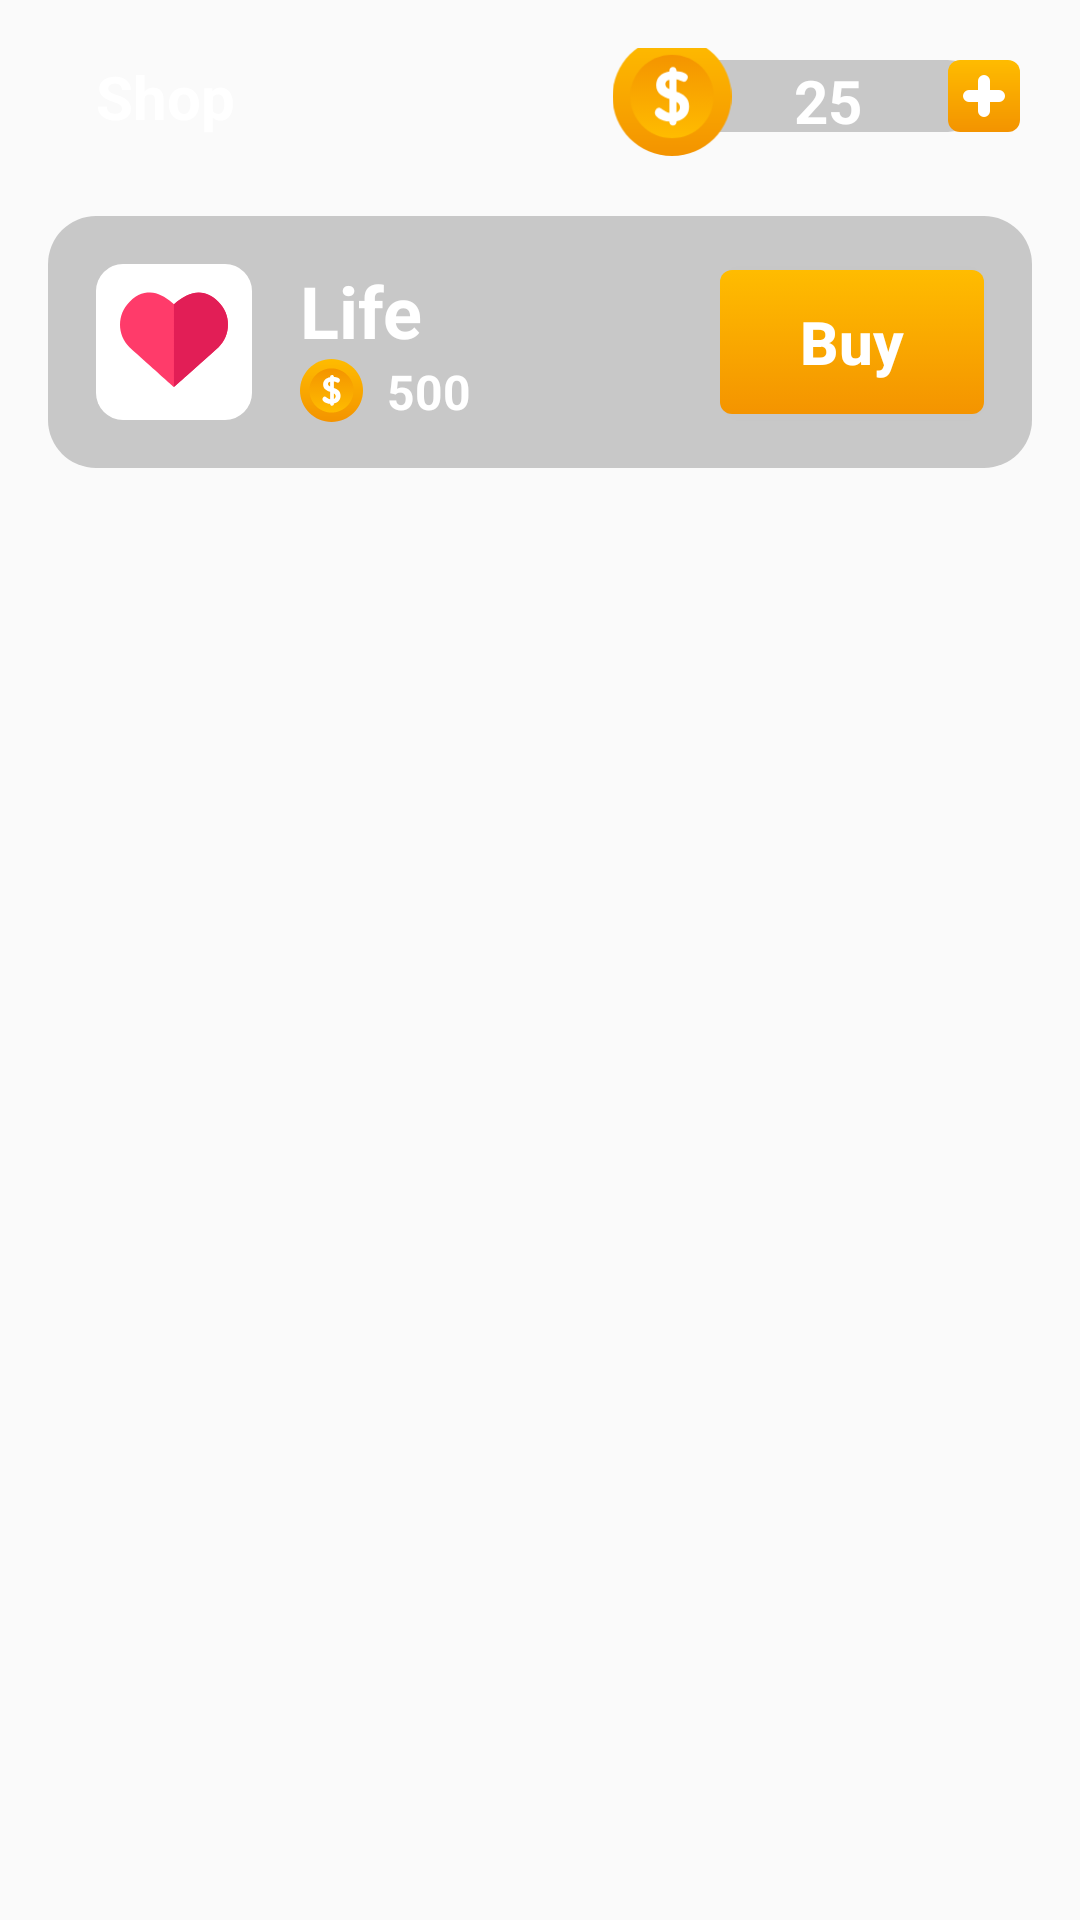

Where to tap for icons on this 1080×1920 app screen, as [x,y]:
add: [984,96]
coin sm: [331,390]
